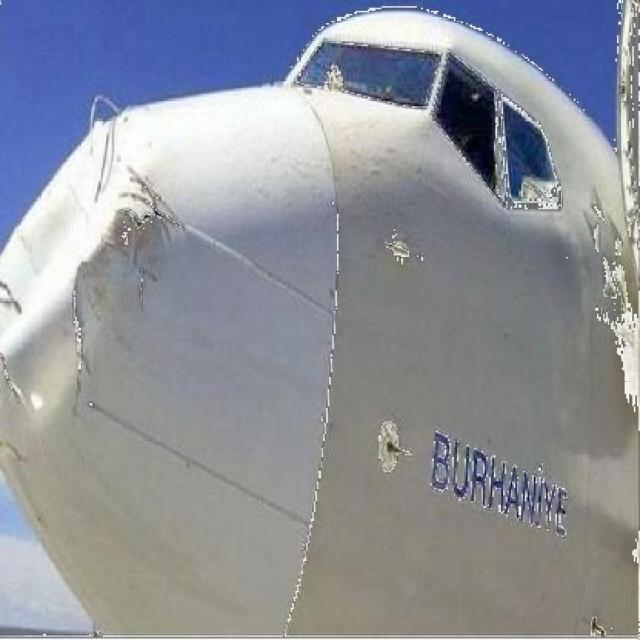dent: (3, 92, 152, 383)
